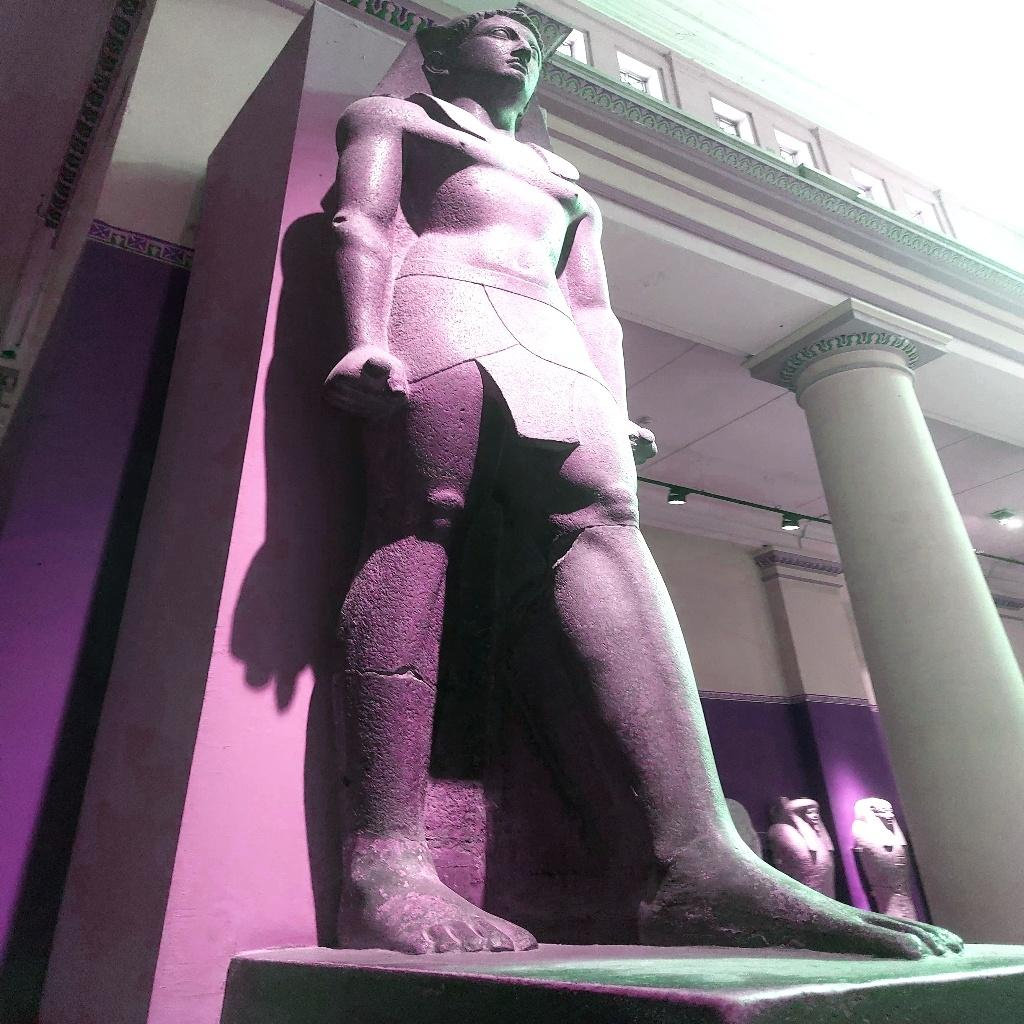Augustus: (318, 7, 964, 961)
